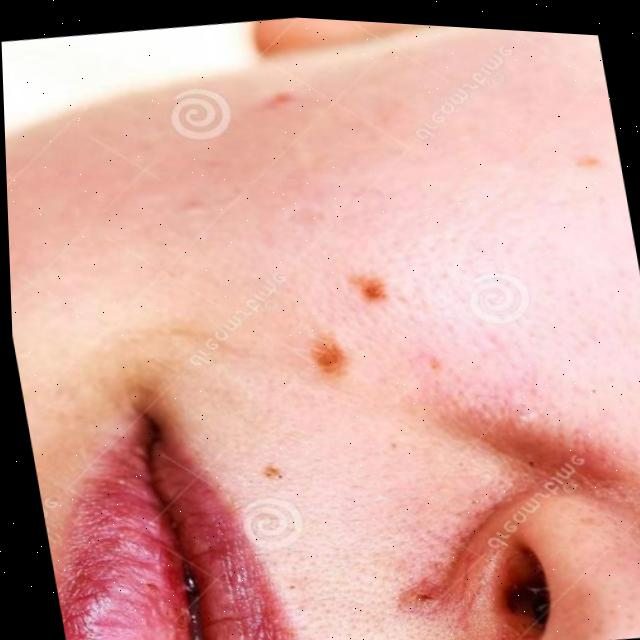Acne: (291, 234, 450, 409)
